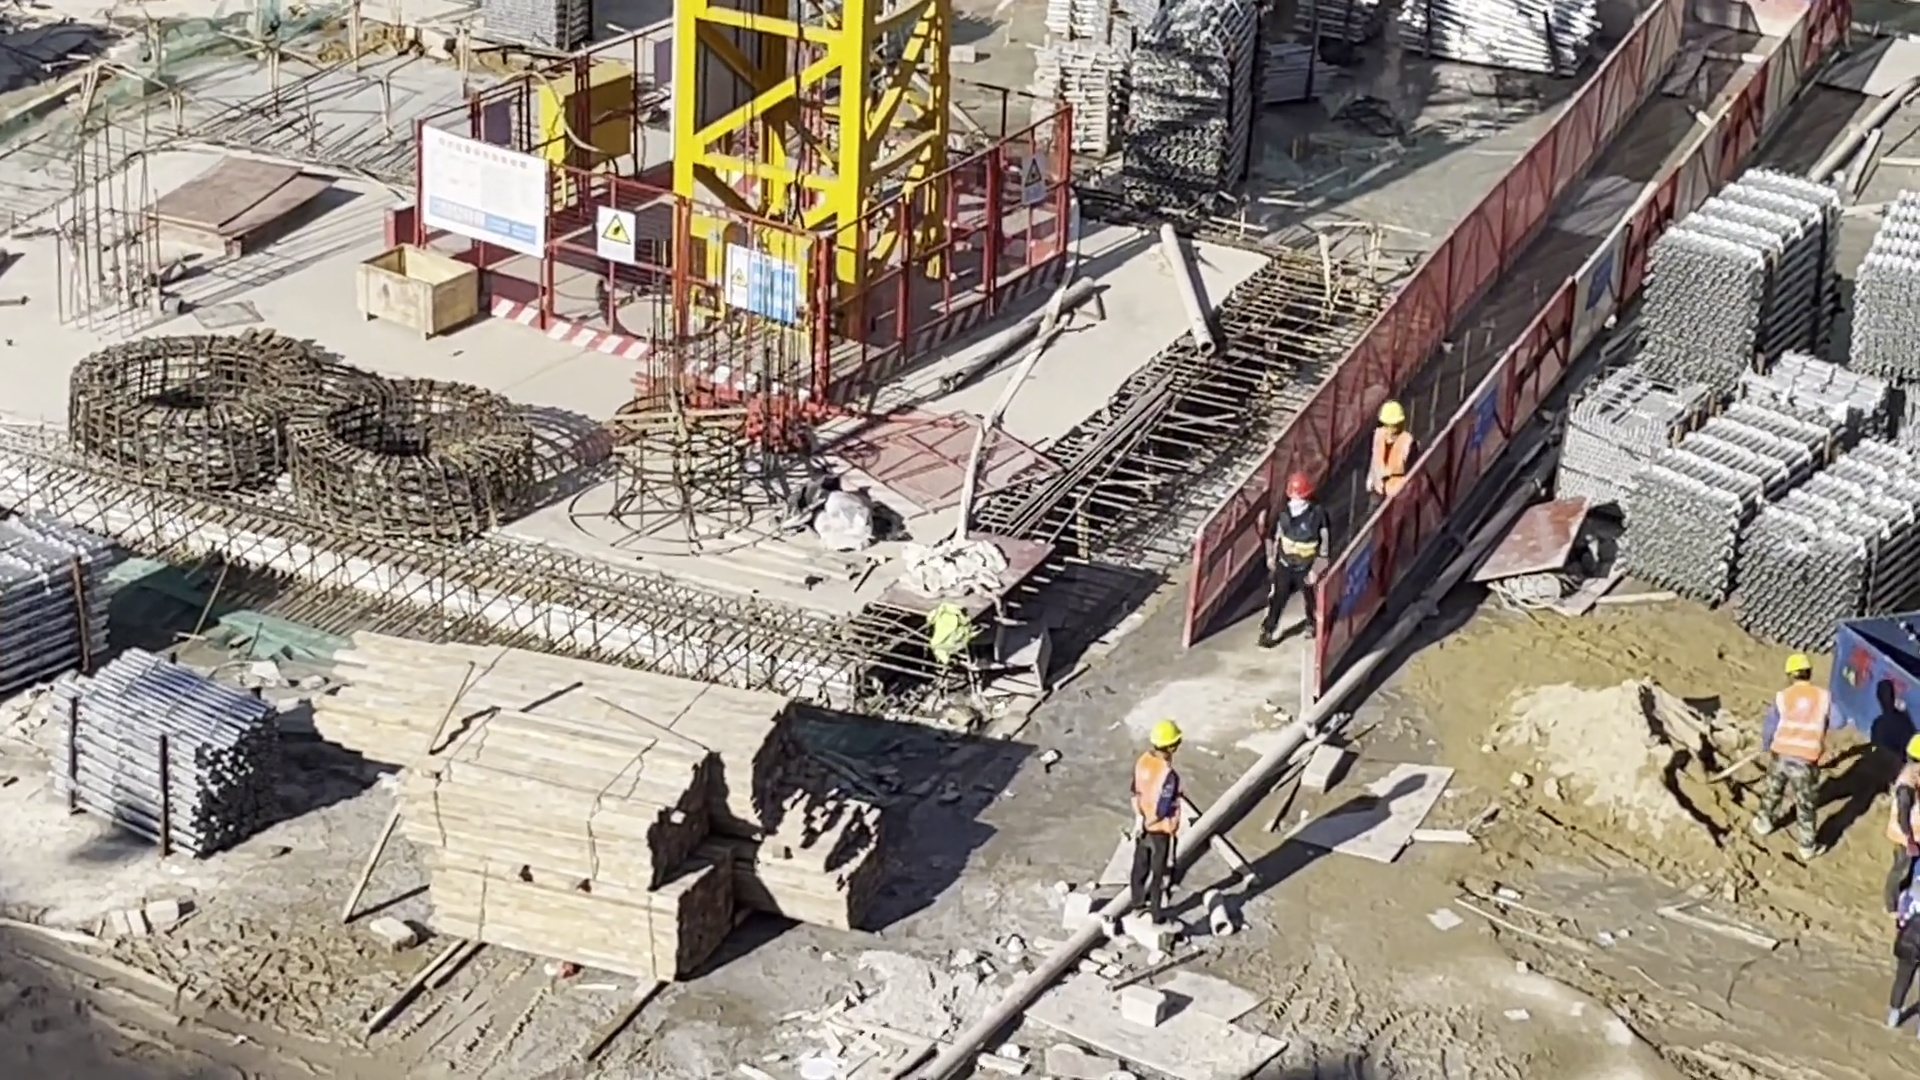board: (159, 156, 323, 251)
ebox: (536, 69, 627, 164)
fence: (1198, 4, 1847, 672)
helmet: (1285, 470, 1319, 501), (1150, 716, 1182, 747), (1378, 400, 1406, 427), (1785, 651, 1811, 679), (1906, 731, 1920, 759)
hopper: (1833, 601, 1920, 743)
person: (1762, 649, 1823, 861), (1261, 469, 1329, 649), (1127, 719, 1181, 934), (1890, 803, 1920, 1027), (1885, 729, 1920, 916), (1370, 406, 1419, 537)
scaffold: (1629, 404, 1920, 636), (59, 654, 275, 853), (1652, 177, 1835, 399), (1043, 1, 1250, 195), (1, 517, 109, 703), (1396, 1, 1592, 73), (1856, 189, 1920, 375), (481, 1, 605, 46), (1307, 1, 1378, 50)
slogan: (728, 249, 800, 322), (1340, 542, 1373, 610), (1471, 379, 1500, 449), (597, 208, 636, 258), (1020, 156, 1048, 203)
vest: (1767, 685, 1831, 765), (1135, 756, 1177, 831), (1366, 434, 1413, 497), (1885, 769, 1917, 847)
wood: (333, 643, 793, 831), (420, 720, 731, 980)
